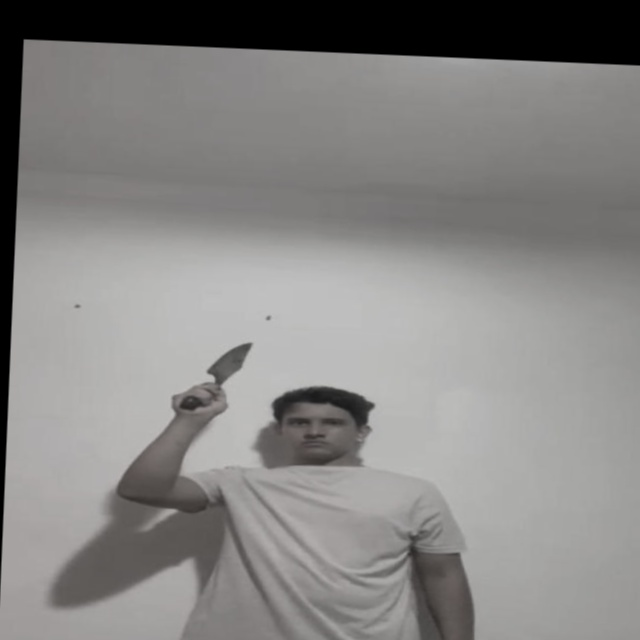Sharp-Object: (202, 338, 253, 385)
